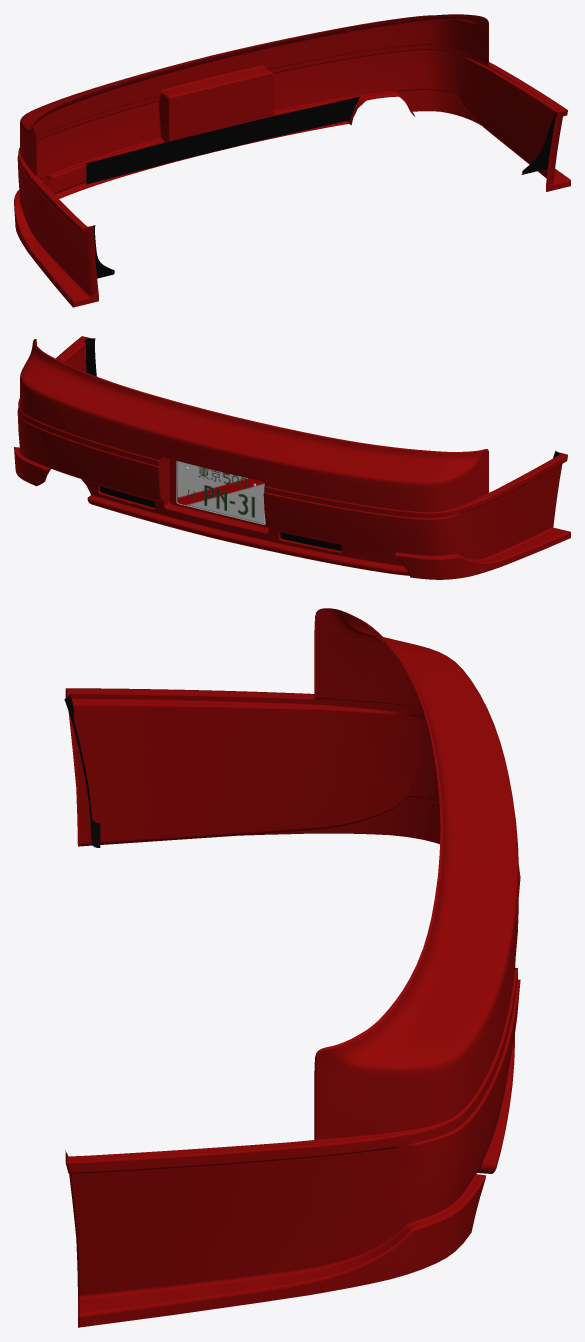
File: rearbumper_carmodifywonderglare.glb
3 views of the same model, one above another, from view 1: azimuth 30°, elevation 25°; view 2: azimuth 150°, elevation 25°; view 3: azimuth 270°, elevation 25° (orthographic). The views are drawn at different scales.
Parts seen in each view (by area): view 1: Bumper, Cover; view 2: Bumper, Plate, Cover; view 3: Bumper.
Part boxes in pixels (x1=…): Bumper: x1=14, y1=14, x2=570, y2=307; Cover: x1=86, y1=96, x2=557, y2=278; Bumper: x1=14, y1=336, x2=570, y2=579; Plate: x1=176, y1=460, x2=265, y2=524; Cover: x1=85, y1=338, x2=559, y2=550; Bumper: x1=65, y1=608, x2=520, y2=1327.
Size of the model in its own units: 1.77 by 0.4368 by 0.7006.
Materials: 5 (1 with a texture image).
